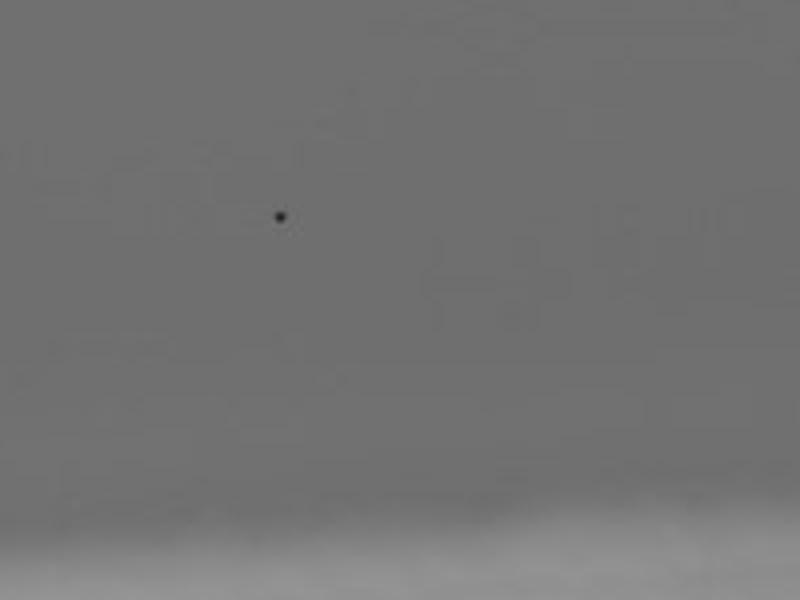defect: (270, 209, 296, 231)
